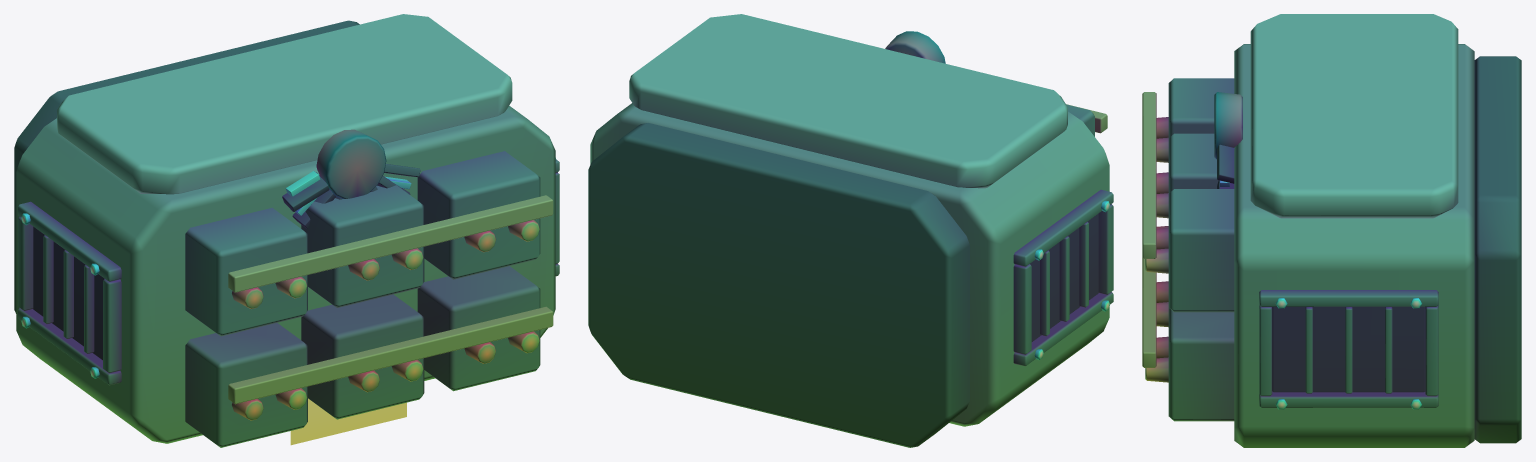
The model's file is gen_homopolar_pulse.glb.
3 views of the same model, side by side, from view 1: azimuth 30°, elevation 25°; view 2: azimuth 150°, elevation 25°; view 3: azimuth 270°, elevation 25° (orthographic). The views are drawn at different scales.
Visible parts, largest first — view 1: Body__armor_dark, Body__armor, Body__armor_sub, Body__copper, Body__gunmetal, Body__dark, Body__brass, Body__decal, Body__emit_cyan; view 2: Body__dark, Body__armor, Body__armor_sub, Body__gunmetal; view 3: Body__armor, Body__armor_sub, Body__dark, Body__armor_dark, Body__gunmetal, Body__copper, Body__brass, Body__chrome.
Boxes of the visible parts, x1,y1,x2,y2 form: Body__armor_dark: (185,151,540,447); Body__armor: (57,14,512,194); Body__armor_sub: (16,105,555,443); Body__copper: (228,195,553,420); Body__gunmetal: (18,129,559,385); Body__dark: (14,20,420,360); Body__brass: (275,220,539,409); Body__decal: (290,398,406,445); Body__emit_cyan: (285,171,411,215); Body__dark: (588,123,1098,447); Body__armor: (629,14,1067,188); Body__armor_sub: (590,103,1109,426); Body__gunmetal: (885,31,1113,366); Body__armor: (1250,14,1458,218); Body__armor_sub: (1234,44,1474,447); Body__dark: (1217,56,1521,443); Body__armor_dark: (1168,78,1234,421); Body__gunmetal: (1214,92,1438,407); Body__copper: (1142,92,1168,367); Body__brass: (1145,137,1168,382); Body__chrome: (1275,298,1421,409).
Bounding box in the file's own units: 0.952 × 0.5924 × 0.694.
